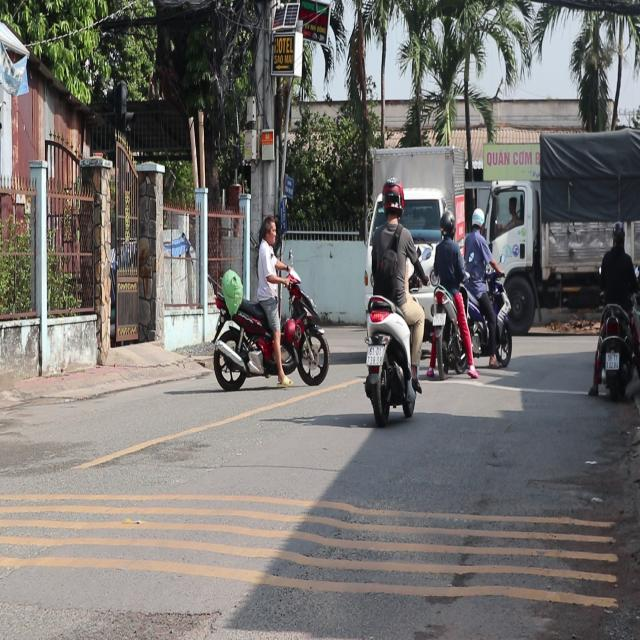helmet: (380, 178, 404, 222), (610, 220, 626, 248), (438, 210, 453, 238)
licenseplate: (208, 210, 332, 390), (360, 175, 424, 424), (590, 219, 639, 399), (427, 207, 472, 377)
motorcyclist: (260, 212, 278, 244)
nohelmet: (366, 346, 384, 365), (606, 353, 619, 369), (432, 312, 446, 324)
